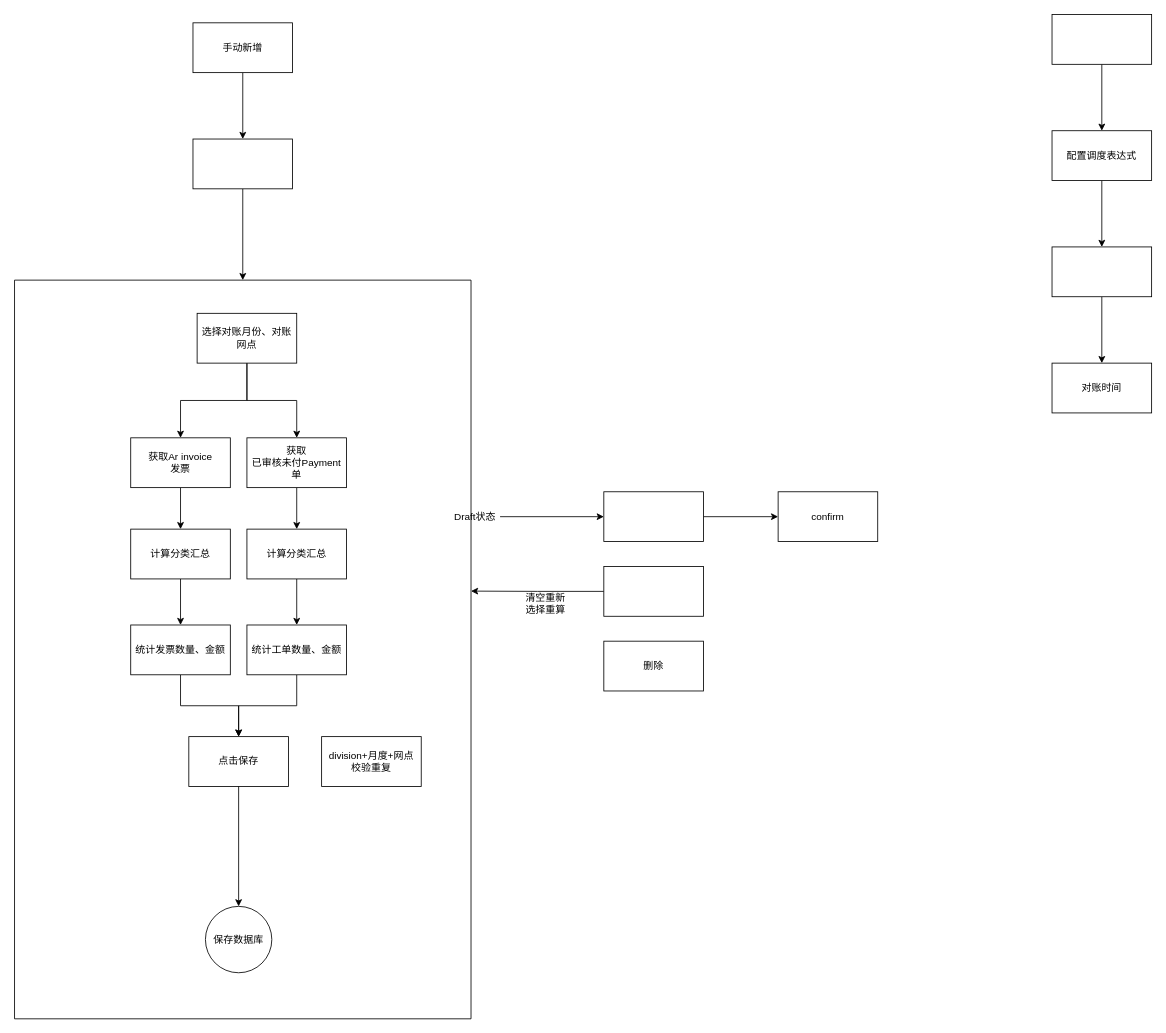
Some shapes in this 1166 by 1033 pixel diagram are drawn without their labels. The shapes that lost their labels are listed below. From the top down, each one's centre as x and y in pixels, then its label:
At (1101,39): "定时任务生成".
At (242,163): "点击create按钮".
At (1101,271): "执行时间".
At (653,516): "编辑remark信息".
At (653,591): "修改".
